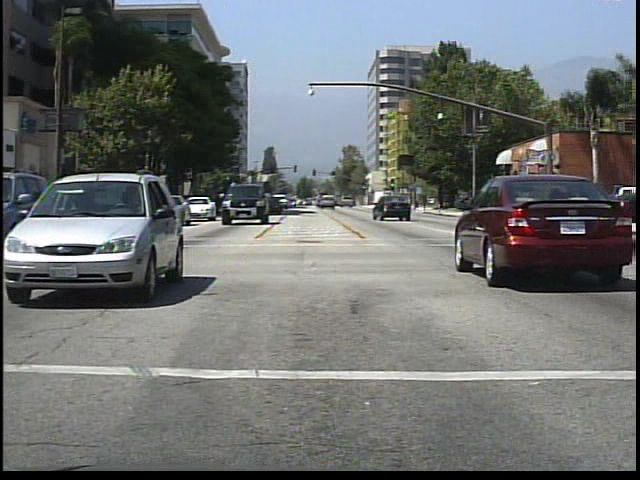car: (1, 176, 190, 307), (457, 165, 632, 289), (216, 183, 268, 226), (371, 194, 411, 221), (314, 191, 339, 210)
